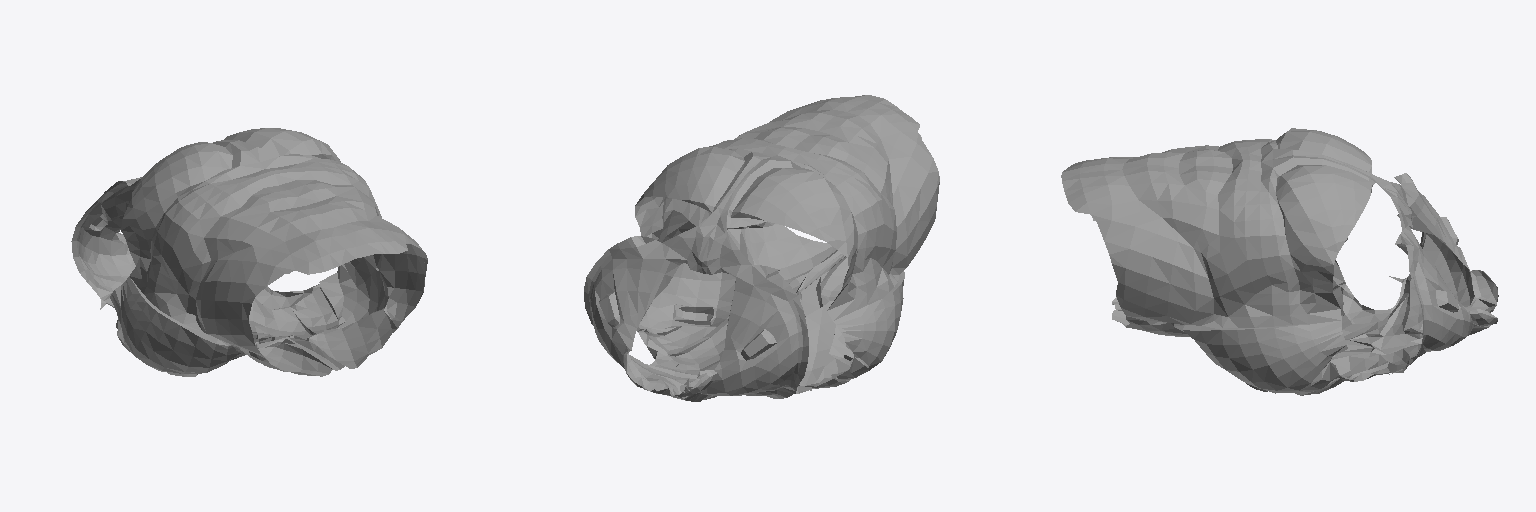
The model's file is nanosuit_body.obj.
3 renders of one model, left to right at view 1: azimuth 30°, elevation 25°; view 2: azimuth 150°, elevation 25°; view 3: azimuth 270°, elevation 25°, orthographic.
Visible parts, largest first — view 1: Body; view 2: Body; view 3: Body.
Part boxes in pixels (left/top/right/bottom): Body: left=71, top=128, right=427, bottom=376; Body: left=584, top=95, right=939, bottom=401; Body: left=1061, top=128, right=1498, bottom=395.
Bounding box in the file's own units: 3.62 × 2.94 × 5.63.